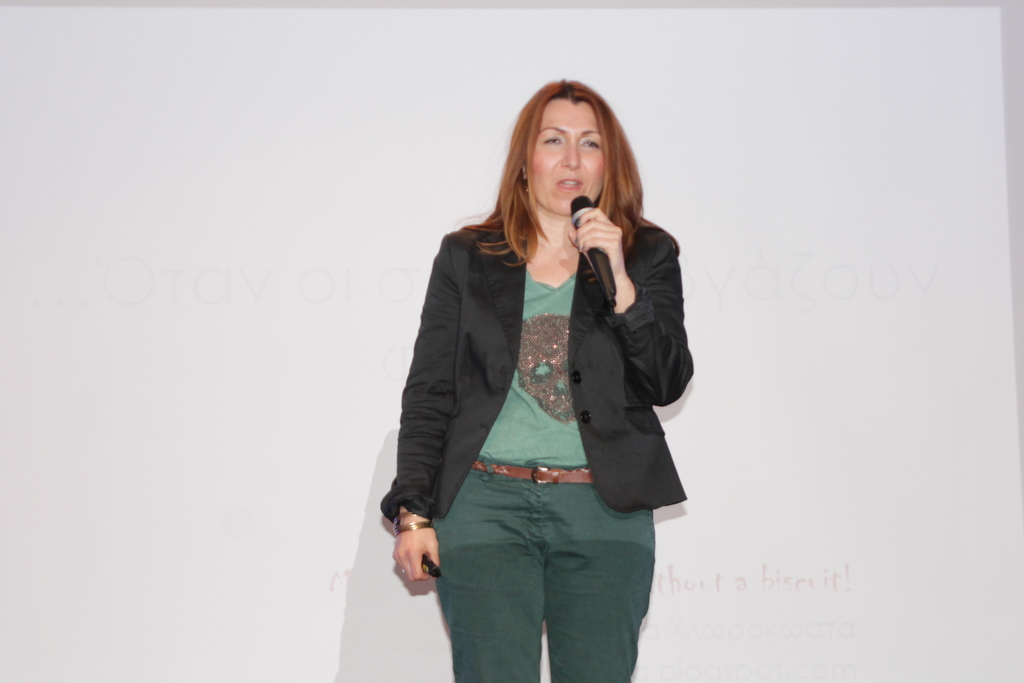Person: (380, 78, 694, 683)
